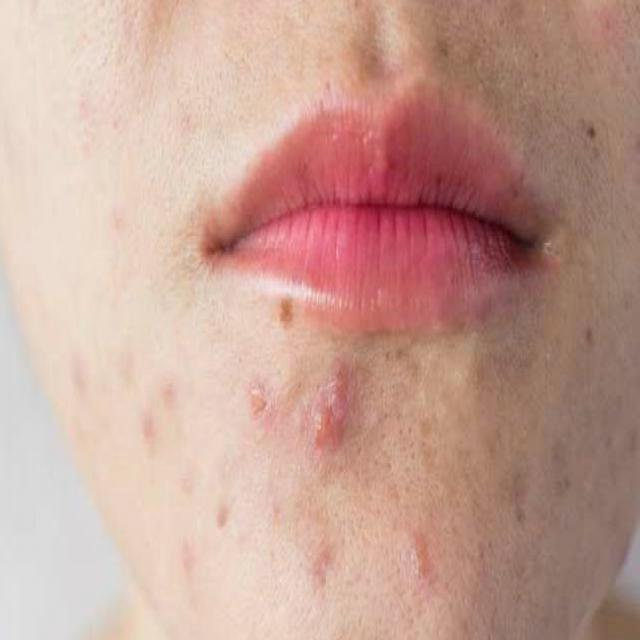Pimples: (314, 366, 349, 458), (309, 544, 332, 590), (248, 376, 268, 428), (408, 539, 430, 581), (278, 291, 296, 328), (142, 404, 156, 449), (180, 540, 196, 578), (162, 372, 177, 408), (216, 501, 232, 524), (514, 503, 528, 526), (584, 118, 598, 140), (272, 494, 282, 519), (588, 324, 594, 334)
